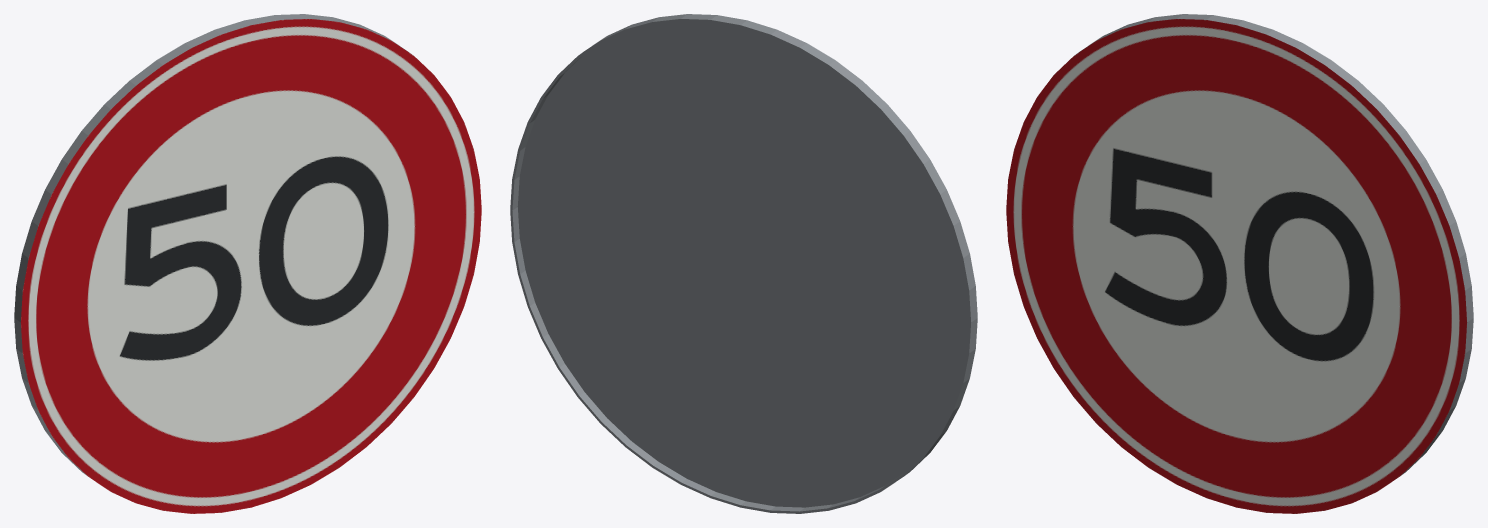
3 views of the same model, side by side, from view 1: azimuth 30°, elevation 25°; view 2: azimuth 150°, elevation 25°; view 3: azimuth 330°, elevation 25° (orthographic).
Visible parts, largest first — view 1: A1_50; view 2: A1_50; view 3: A1_50.
Boxes of the visible parts, bbox=[...] form: A1_50: bbox=[14, 14, 481, 513]; A1_50: bbox=[510, 14, 977, 513]; A1_50: bbox=[1006, 14, 1473, 513].
Bounding box in the file's own units: 0.6 × 0.015 × 0.6.
2 materials, 1 textured.
